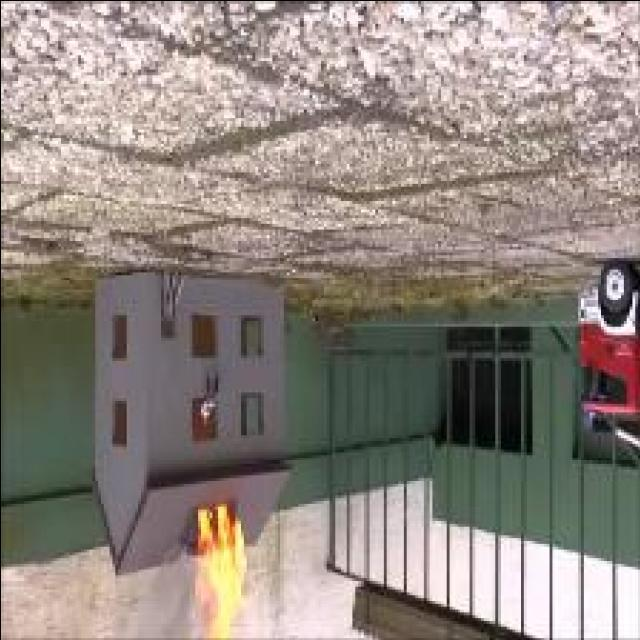Fire: (196, 508, 244, 634)
